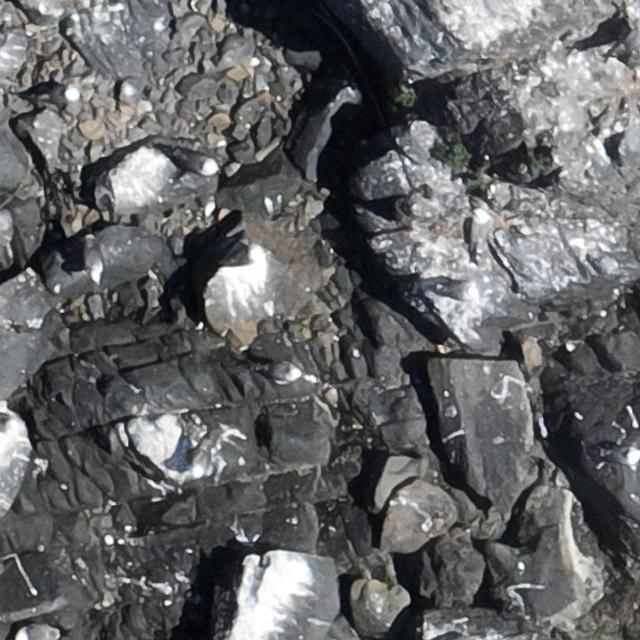umineko: (188, 436, 222, 480), (30, 82, 80, 104), (87, 229, 101, 293), (469, 209, 488, 250), (262, 364, 301, 383), (184, 152, 216, 174), (17, 625, 52, 639)
